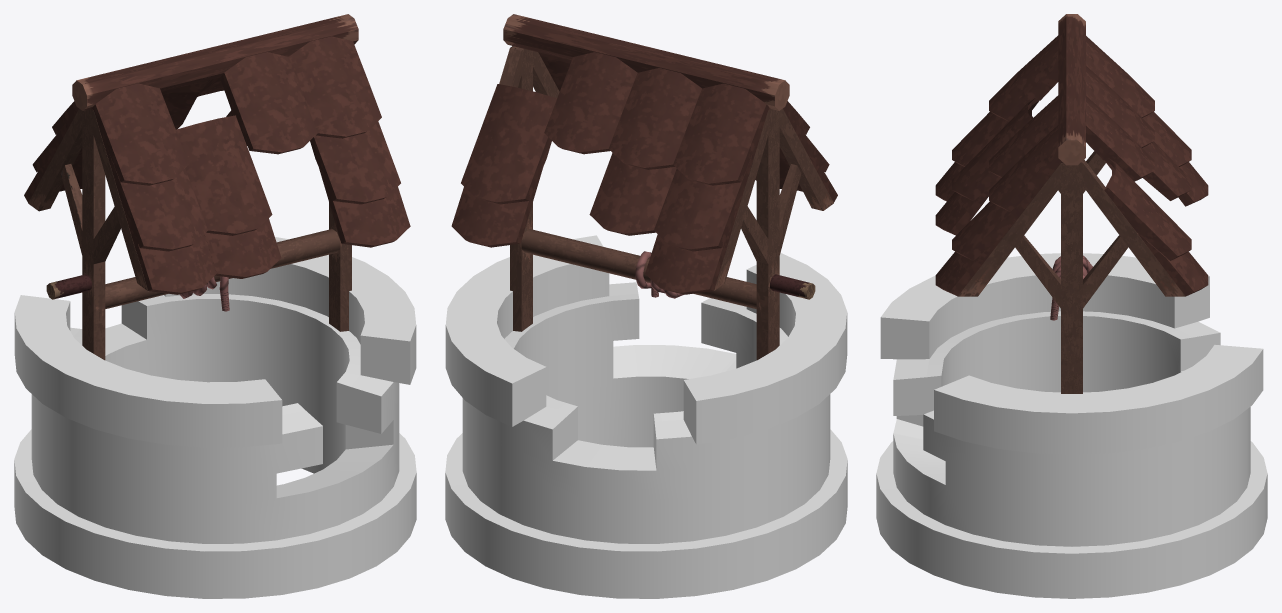
The model's file is Stone_Well_Broken_lowpoly.fbx.
3 renders of one model, left to right at view 1: azimuth 30°, elevation 25°; view 2: azimuth 150°, elevation 25°; view 3: azimuth 270°, elevation 25°, orthographic. The views are drawn at different scales.
Visible parts, largest first — view 1: Well_Broken_lp, Roof_Panels, Well_Structure, Top, Well_Part, Lever, Rope; view 2: Well_Broken_lp, Roof_Panels, Well_Structure, Top, Well_Part, Lever, Rope; view 3: Well_Broken_lp, Roof_Panels, Well_Structure, Top.
Boxes of the visible parts, x1,y1,x2,y2 form: Well_Broken_lp: [14, 237, 416, 598]; Roof_Panels: [24, 36, 410, 294]; Well_Structure: [28, 108, 351, 360]; Top: [72, 14, 358, 110]; Well_Part: [105, 229, 340, 308]; Lever: [46, 274, 91, 299]; Rope: [179, 276, 229, 311]; Well_Broken_lp: [445, 235, 847, 598]; Roof_Panels: [451, 52, 837, 294]; Well_Structure: [499, 46, 833, 360]; Top: [503, 14, 789, 110]; Well_Part: [521, 229, 756, 308]; Lever: [770, 274, 815, 299]; Rope: [635, 251, 683, 298]; Well_Broken_lp: [876, 253, 1267, 598]; Roof_Panels: [935, 35, 1208, 296]; Well_Structure: [957, 151, 1185, 393]; Top: [1058, 14, 1085, 165].
Size of the model in its own units: 411 by 525 by 422.
2 materials, 1 textured.
